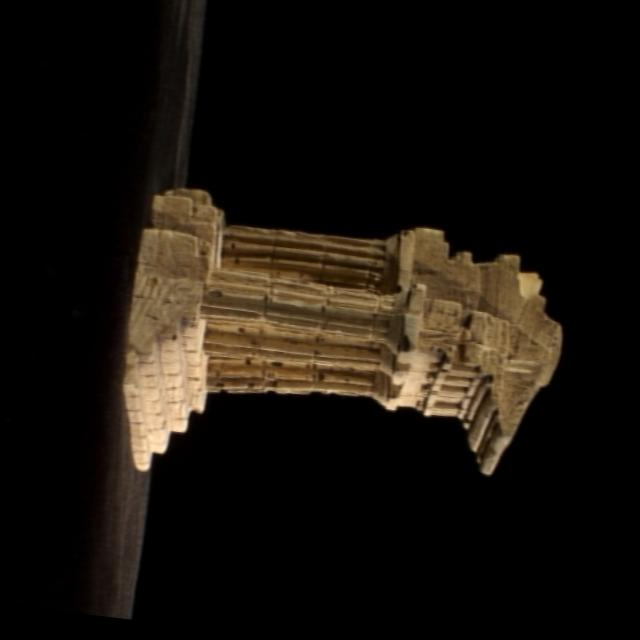Instance-Segmentation: (123, 188, 560, 474)
